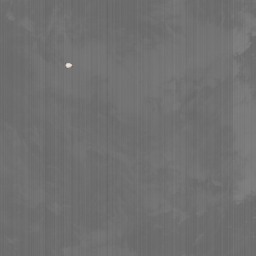Target: (64, 62, 74, 68)
